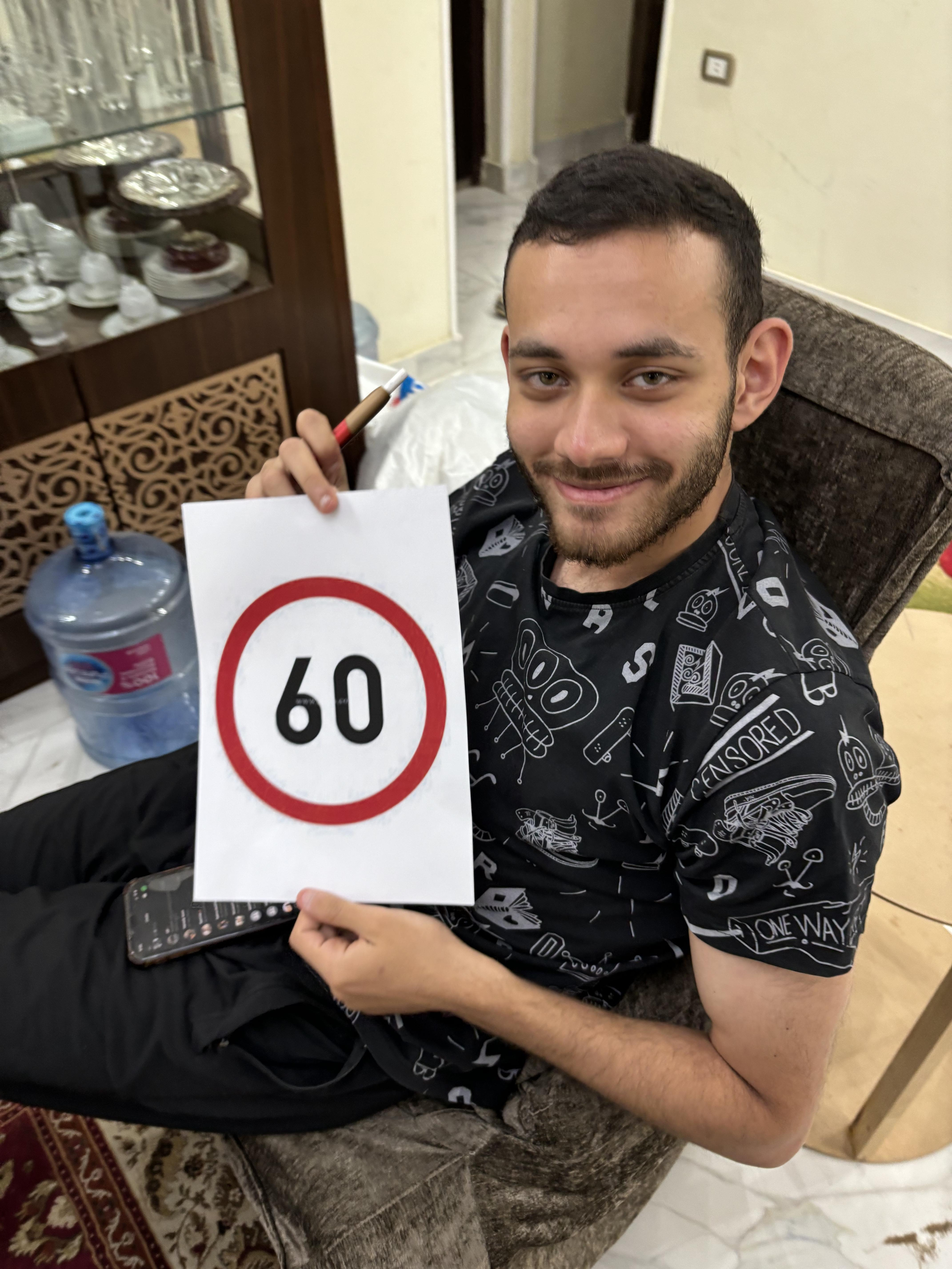60-Speed: (214, 569, 449, 833)
